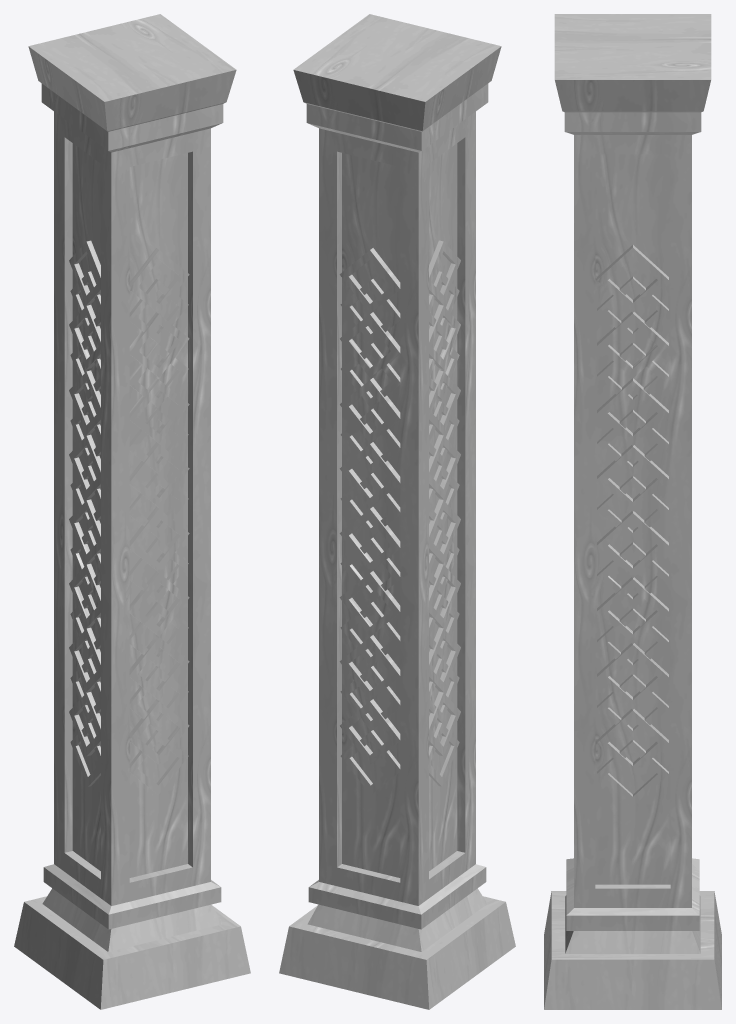
The model's file is BridgePillar_B_001.fbx.
3 renders of one model, left to right at view 1: azimuth 30°, elevation 25°; view 2: azimuth 150°, elevation 25°; view 3: azimuth 270°, elevation 25°, orthographic. The views are drawn at different scales.
Parts seen in each view (by area): view 1: BridgePillar_B_001; view 2: BridgePillar_B_001; view 3: BridgePillar_B_001.
Boxes of the visible parts, box(x1,y1,x2,y2) form: BridgePillar_B_001: box(14, 14, 250, 1009); BridgePillar_B_001: box(279, 14, 515, 1009); BridgePillar_B_001: box(544, 14, 721, 1009).
Size of the model in its own units: 67.12 by 385 by 67.12.
Materials: 2 (2 with a texture image).
